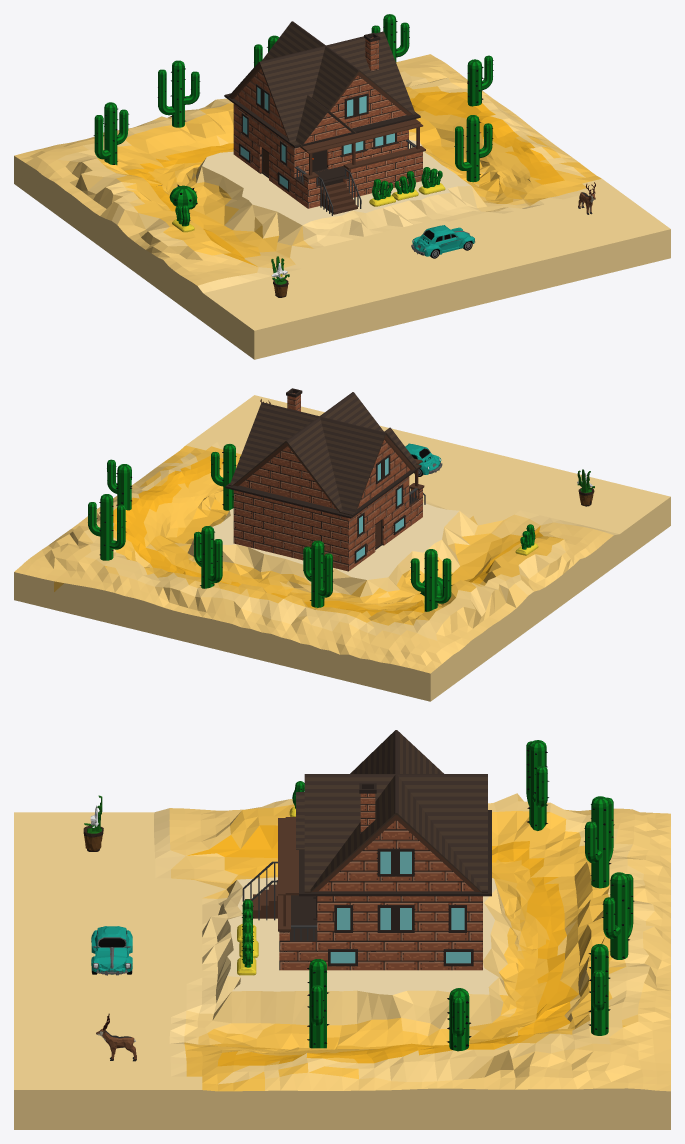
3 views of the same model, one above another, from view 1: azimuth 30°, elevation 25°; view 2: azimuth 150°, elevation 25°; view 3: azimuth 270°, elevation 25° (orthographic). The views are drawn at different scales.
Visible parts, largest first — view 1: Cube.001, Cube.469, Cylinder.037, Cylinder.044, Cylinder.045, VEHICLES_VOLKSWAGEN, Cylinder.038, Cylinder.042, Cylinder.039, Cylinder.041, OBJRANDOM_MONJA BLANCA, Sphere.023 (+1 smaller); view 2: Cube.001, Cube.469, Cylinder.042, Cylinder.045, Cylinder.044, Cylinder.043, Cylinder.037, Cylinder.038, VEHICLES_VOLKSWAGEN; view 3: Cube.001, Cube.469, Cylinder.043, Cylinder.044, VEHICLES_VOLKSWAGEN, Cylinder.045, Cylinder.042, Cylinder.037, Cylinder.038, OBJRANDOM_MONJA BLANCA, Cylinder.041, ANIMAL_VENADO.
Part boxes in pixels (<box>): Cube.001: <box>14,54,670,359</box>; Cube.469: <box>224,21,425,215</box>; Cylinder.037: <box>454,115,493,182</box>; Cylinder.044: <box>157,60,200,127</box>; Cylinder.045: <box>93,102,129,164</box>; VEHICLES_VOLKSWAGEN: <box>411,225,475,258</box>; Cylinder.038: <box>467,55,493,106</box>; Cylinder.042: <box>371,14,409,62</box>; Cylinder.039: <box>369,179,395,206</box>; Cylinder.041: <box>418,167,445,194</box>; OBJRANDOM_MONJA BLANCA: <box>271,256,289,297</box>; Sphere.023: <box>169,184,197,209</box>; Cube.001: <box>14,395,670,701</box>; Cube.469: <box>225,388,425,571</box>; Cylinder.042: <box>88,494,126,560</box>; Cylinder.045: <box>410,549,452,611</box>; Cylinder.044: <box>303,540,333,607</box>; Cylinder.043: <box>193,526,222,588</box>; Cylinder.037: <box>211,444,240,510</box>; Cylinder.038: <box>107,459,131,510</box>; VEHICLES_VOLKSWAGEN: <box>405,443,442,476</box>; Cube.001: <box>14,793,670,1129</box>; Cube.469: <box>242,730,491,970</box>; Cylinder.043: <box>602,872,634,959</box>; Cylinder.044: <box>584,796,614,888</box>; VEHICLES_VOLKSWAGEN: <box>91,926,132,975</box>; Cylinder.045: <box>526,740,549,830</box>; Cylinder.042: <box>588,944,610,1035</box>; Cylinder.037: <box>307,959,329,1048</box>; Cylinder.038: <box>447,988,471,1051</box>; OBJRANDOM_MONJA BLANCA: <box>83,795,103,851</box>; Cylinder.041: <box>237,932,256,975</box>; ANIMAL_VENADO: <box>96,1013,136,1061</box>.
Size of the model in its own units: 4002 by 1650 by 4001.
Materials: 32 (4 with a texture image).
